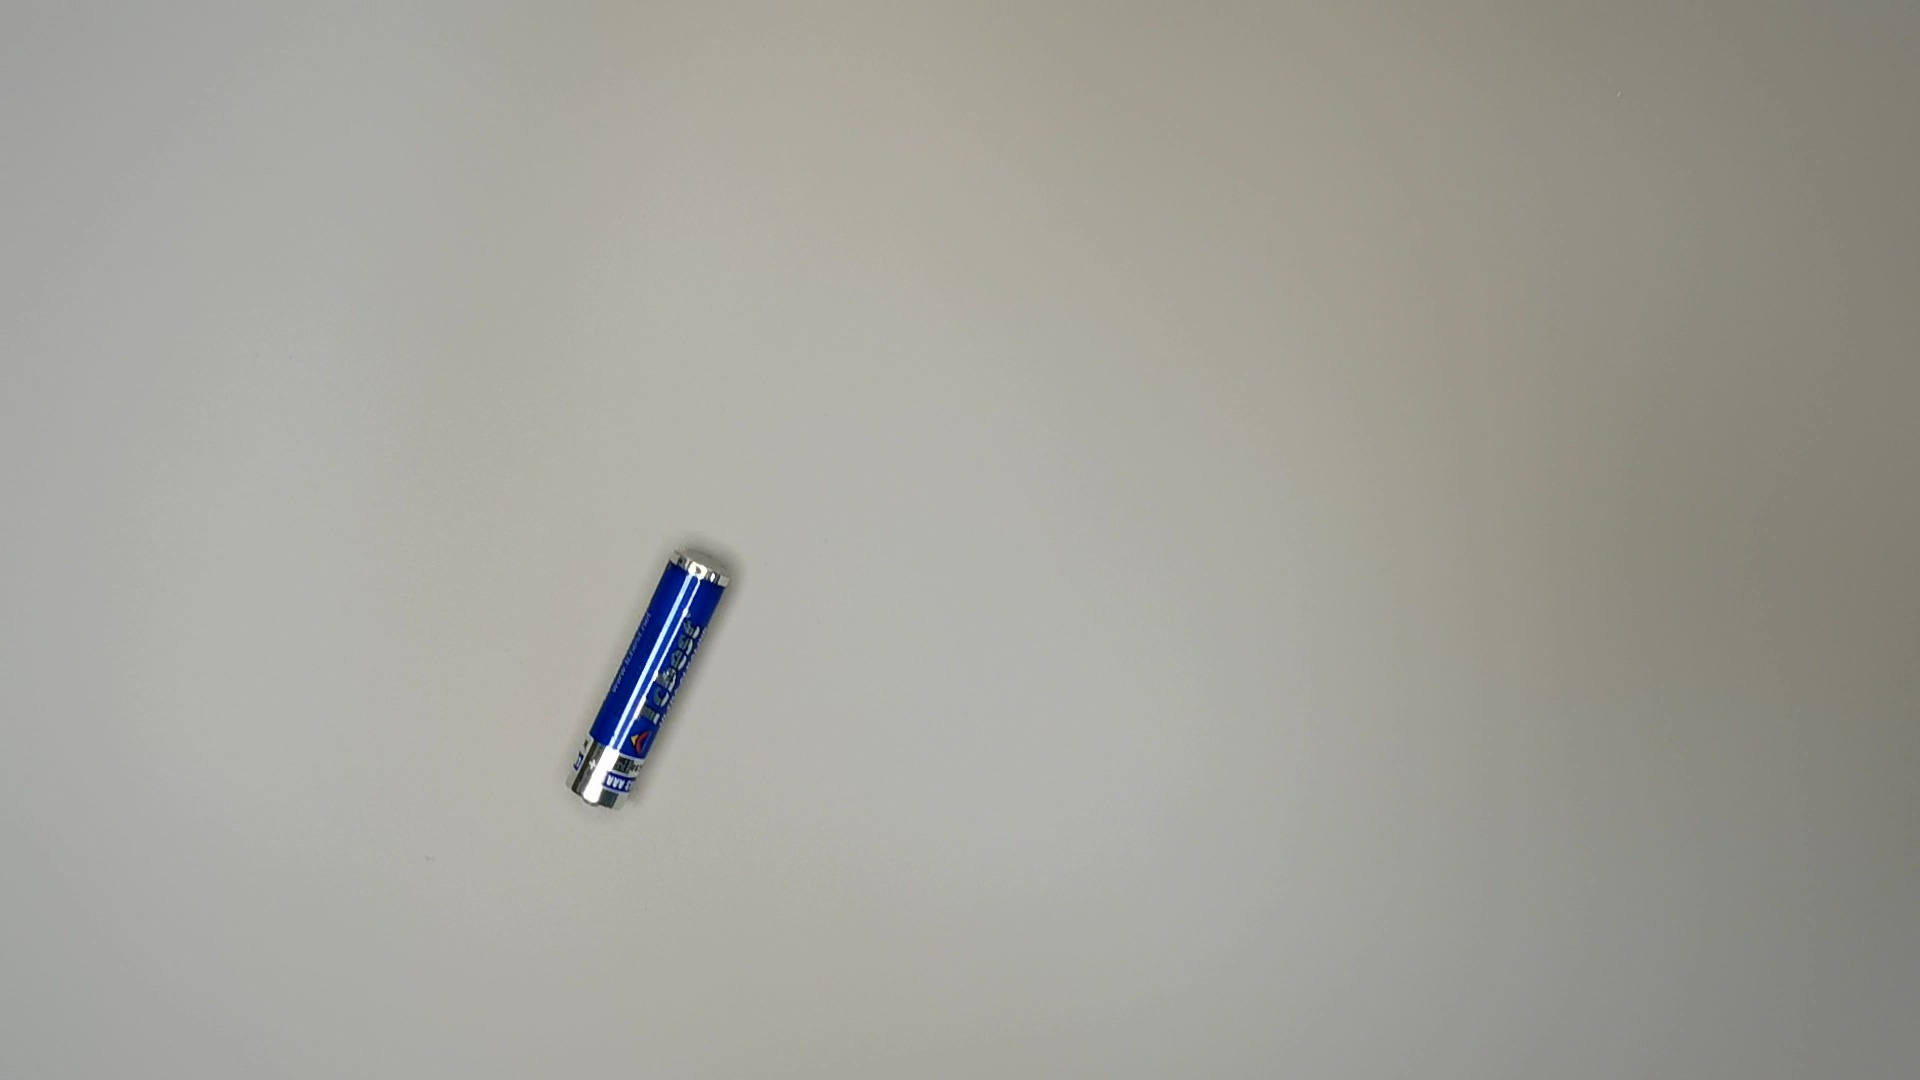battery: (556, 538, 742, 815)
